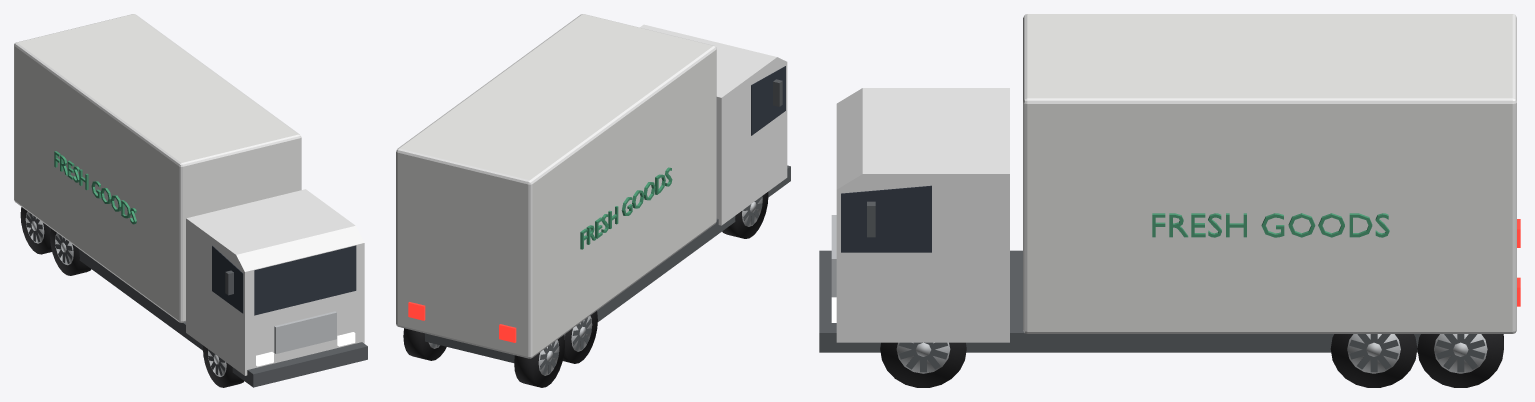
The model's file is truck.gltf.
3 views of the same model, side by side, from view 1: azimuth 30°, elevation 25°; view 2: azimuth 150°, elevation 25°; view 3: azimuth 270°, elevation 25° (orthographic). The views are drawn at different scales.
Parts seen in each view (by area): view 1: truck, Wheel3, Wheel5, Wheel1; view 2: truck, Wheel5, Wheel3, Wheel1, Wheel4; view 3: truck, Wheel4, Wheel2, Wheel0.
Boxes of the visible parts, x1,y1,x2,y2 form: truck: (14, 14, 367, 387); Wheel3: (50, 228, 91, 275); Wheel5: (20, 207, 51, 254); Wheel1: (203, 345, 244, 387); truck: (396, 14, 790, 362); Wheel5: (514, 335, 564, 387); Wheel3: (563, 311, 597, 363); Wheel1: (722, 192, 768, 238); Wheel4: (403, 328, 446, 360); truck: (819, 14, 1520, 352); Wheel4: (1417, 334, 1503, 387); Wheel2: (1330, 334, 1417, 387); Wheel0: (880, 342, 966, 387).
Size of the model in its own units: 0.52 by 0.739 by 1.62.
Materials: 11 (1 with a texture image).
